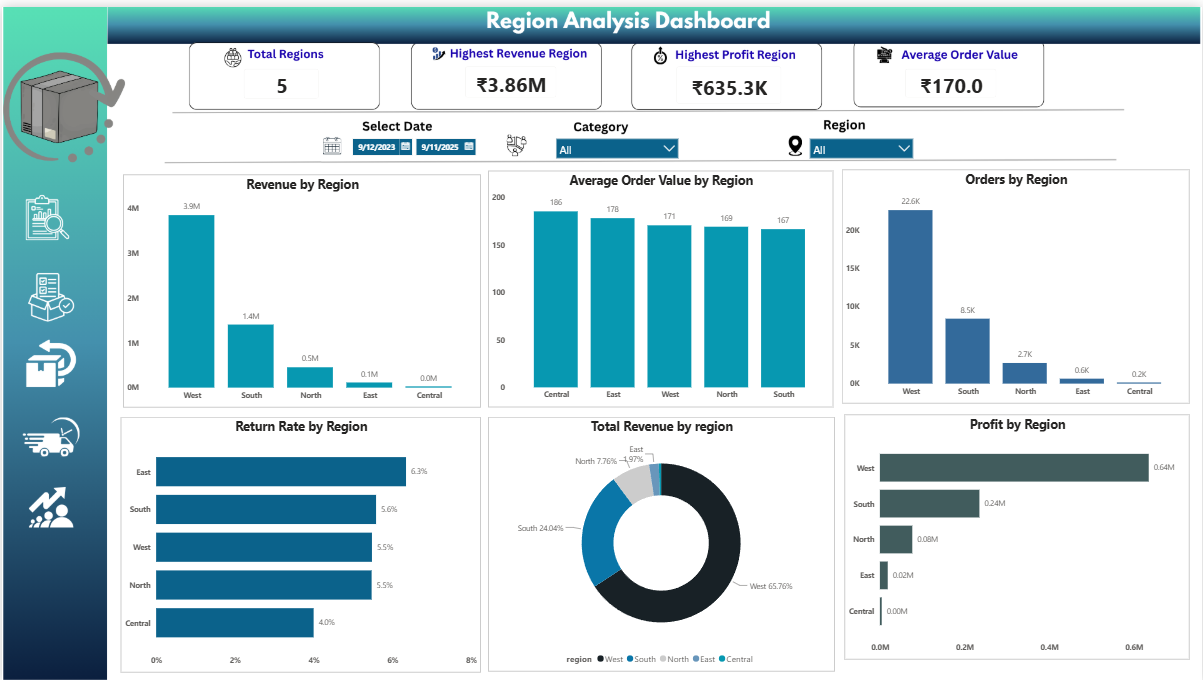

The dashboard page shown, as its layout file describes it:
{"tool":"powerbi","page":{"name":"Regional Analysis","canvas":[1920,1080],"ordinal":4},"visuals":[{"type":"cardVisual","fields":{"Data":["customers.Highest Revenue Region Revenue"]},"box":[736,90,156,60],"z":0},{"type":"cardVisual","fields":{"Data":["customers.AOV"]},"box":[1440,94,156,56],"z":1},{"type":"cardVisual","fields":{"Data":["customers.Total Regions"]},"box":[382,94,130,58],"z":2},{"type":"cardVisual","fields":{"Data":["customers.Highest Profit Region Profit"]},"box":[1074,90,178,70],"z":3},{"type":"slicer","fields":{"Values":["Date_Table.Date"]},"box":[548,200,216,40],"z":4},{"type":"slicer","fields":{"Values":["products.category"]},"box":[876,200,216,54],"z":5},{"type":"slicer","fields":{"Values":["customers.region"]},"box":[1282,200,186,54],"z":6},{"type":"clusteredColumnChart","title":"Revenue by Region","fields":{"Category":["customers.region"],"Y":["orders.Total Revenue"]},"box":[194,268,572,372.4],"z":7},{"type":"clusteredBarChart","title":"Profit by Region","fields":{"Category":["customers.region"],"Y":["orders.Total Profit"]},"box":[1348,652,552,392],"z":8},{"type":"clusteredColumnChart","title":"Orders by Region","fields":{"Category":["customers.region"],"Y":["orders.Total Orders"]},"box":[1344.8,260,556,374],"z":9},{"type":"clusteredBarChart","title":"Return Rate by Region","fields":{"Y":["Returns.Return Rate"],"Category":["customers.region"]},"box":[190,655.2,576,408.8],"z":10},{"type":"clusteredColumnChart","title":"Average Order Value by Region","fields":{"Category":["customers.region"],"Y":["customers.AOV"]},"box":[778,262,552,378],"z":11},{"type":"donutChart","fields":{"Category":["customers.region"],"Y":["orders.Total Revenue"]},"box":[778,655.2,554,406.8],"z":12}]}

Visuals, with their boxes on the page's 1920x1080 design canvas (x1, y1, x2, y2). These are canvas units, not pixel positions in the 1203x680 screenshot, which may show the page scaled, cropped or inside an application window:
cardVisual - customers.Highest Revenue Region Revenue: rect(736, 90, 892, 150)
cardVisual - customers.AOV: rect(1440, 94, 1596, 150)
cardVisual - customers.Total Regions: rect(382, 94, 512, 152)
cardVisual - customers.Highest Profit Region Profit: rect(1074, 90, 1252, 160)
slicer - Date_Table.Date: rect(548, 200, 764, 240)
slicer - products.category: rect(876, 200, 1092, 254)
slicer - customers.region: rect(1282, 200, 1468, 254)
"Revenue by Region" clusteredColumnChart: rect(194, 268, 766, 640)
"Profit by Region" clusteredBarChart: rect(1348, 652, 1900, 1044)
"Orders by Region" clusteredColumnChart: rect(1345, 260, 1901, 634)
"Return Rate by Region" clusteredBarChart: rect(190, 655, 766, 1064)
"Average Order Value by Region" clusteredColumnChart: rect(778, 262, 1330, 640)
donutChart - customers.region x orders.Total Revenue: rect(778, 655, 1332, 1062)
